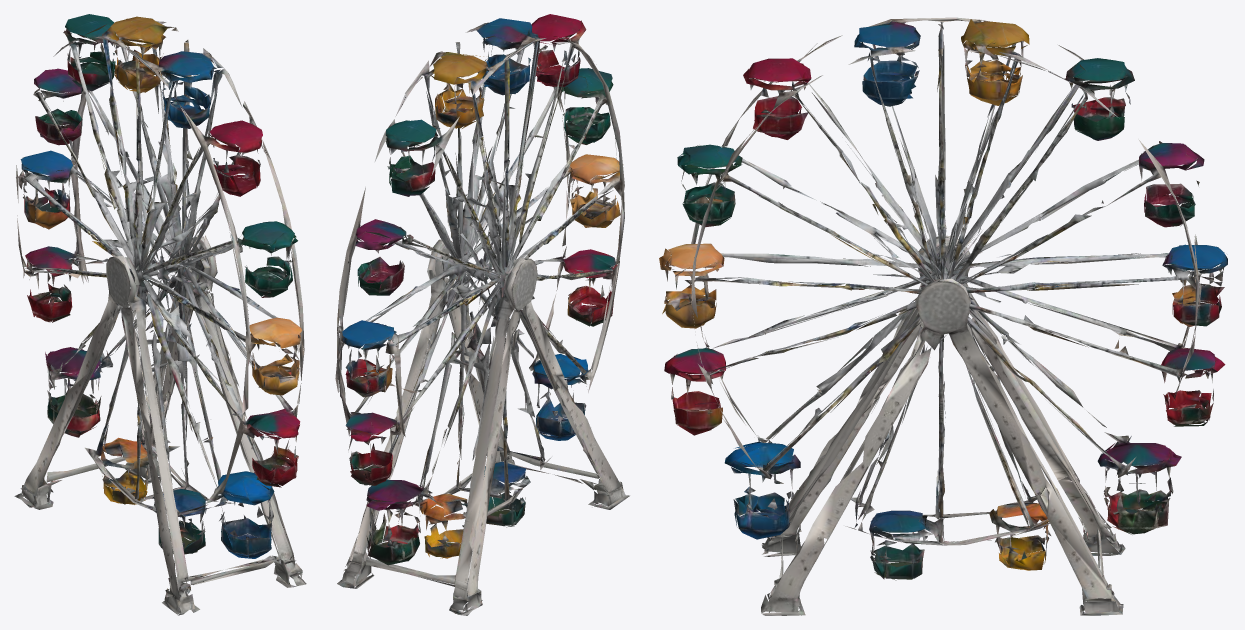
Rendered from jahrmarkt_riesenrad.glb.
The picture shows the model from 3 angles, left to right: view 1: azimuth 30°, elevation 25°; view 2: azimuth 150°, elevation 25°; view 3: azimuth 270°, elevation 25°; orthographic projection. The views are drawn at different scales.
Visible parts, largest first — view 1: Prop; view 2: Prop; view 3: Prop.
Boxes of the visible parts, x1,y1,x2,y2 form: Prop: (14,14,306,615); Prop: (335,14,629,615); Prop: (659,17,1227,615).
Bounding box in the file's own units: 0.2764 × 1.01 × 0.9345.
Materials: 1 (1 with a texture image).
